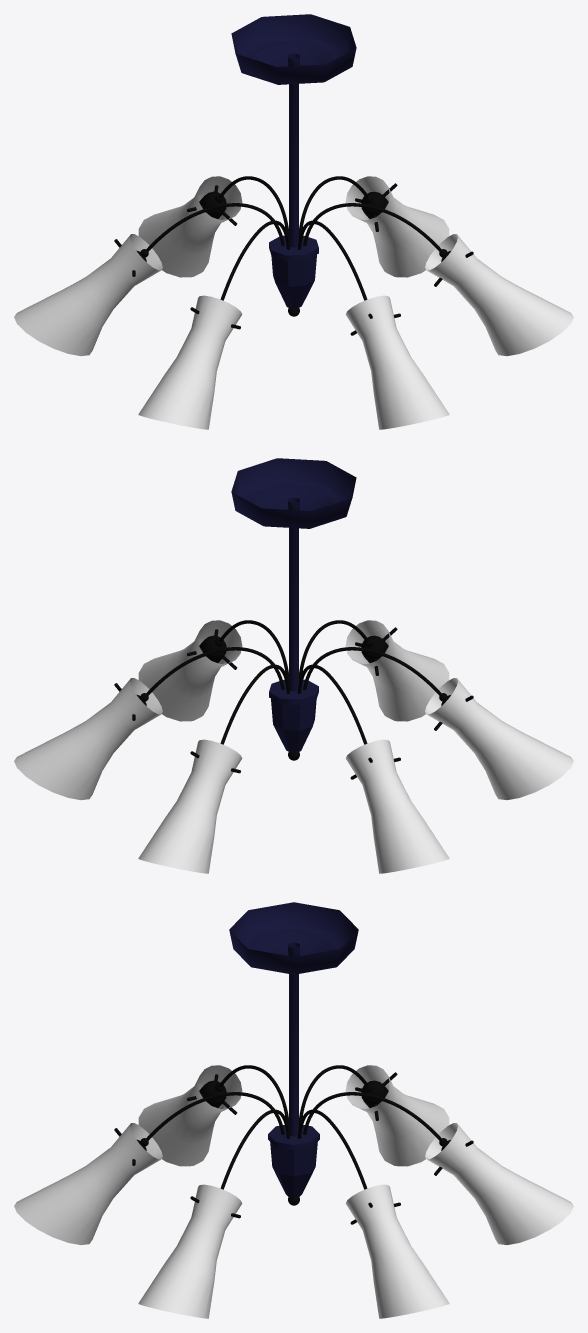
File: Candelabro.FBX
3 renders of one model, top to bottom at view 1: azimuth 30°, elevation 25°; view 2: azimuth 150°, elevation 25°; view 3: azimuth 270°, elevation 25°, orthographic.
Visible parts, largest first — view 1: Shade001, Shade004, Ceiling-cap, Shade003, Shade002, Shade, Shade005, Main-holder, Main-tube, Line001, Line004, Socket (+3 smaller); view 2: Shade005, Shade002, Ceiling-cap, Shade001, Shade, Shade004, Shade003, Main-holder, Main-tube, Line002, Line005, Socket004 (+3 smaller); view 3: Shade003, Shade, Ceiling-cap, Shade005, Shade004, Shade002, Shade001, Main-holder, Main-tube, Line, Line003, Socket002 (+3 smaller).
Part boxes in pixels (left/top/right/bottom): Shade001: left=14, top=234, right=162, bottom=356; Shade004: left=425, top=234, right=573, bottom=356; Ceiling-cap: left=231, top=14, right=356, bottom=84; Shade003: left=345, top=295, right=449, bottom=429; Shade002: left=138, top=295, right=242, bottom=429; Shade: left=138, top=176, right=242, bottom=277; Shade005: left=345, top=176, right=449, bottom=277; Main-holder: left=269, top=235, right=318, bottom=308; Main-tube: left=288, top=53, right=299, bottom=247; Line001: left=146, top=203, right=284, bottom=251; Line004: left=303, top=203, right=441, bottom=251; Socket: left=187, top=185, right=237, bottom=225; Shade005: left=14, top=678, right=162, bottom=800; Shade002: left=425, top=678, right=573, bottom=800; Ceiling-cap: left=231, top=458, right=356, bottom=528; Shade001: left=345, top=739, right=449, bottom=873; Shade: left=138, top=739, right=242, bottom=873; Shade004: left=138, top=620, right=242, bottom=721; Shade003: left=345, top=620, right=449, bottom=721; Main-holder: left=269, top=679, right=318, bottom=752; Main-tube: left=288, top=497, right=299, bottom=691; Line002: left=303, top=647, right=441, bottom=695; Line005: left=146, top=647, right=284, bottom=695; Socket004: left=187, top=629, right=237, bottom=669; Shade003: left=14, top=1123, right=162, bottom=1244; Shade: left=425, top=1123, right=573, bottom=1244; Ceiling-cap: left=229, top=902, right=358, bottom=974; Shade005: left=345, top=1184, right=449, bottom=1318; Shade004: left=138, top=1184, right=242, bottom=1318; Shade002: left=138, top=1065, right=242, bottom=1166; Shade001: left=345, top=1065, right=449, bottom=1166; Main-holder: left=268, top=1125, right=319, bottom=1197; Main-tube: left=288, top=942, right=299, bottom=1136; Line: left=303, top=1092, right=441, bottom=1140; Line003: left=146, top=1092, right=284, bottom=1140; Socket002: left=187, top=1074, right=237, bottom=1114.
Size of the model in its own units: 57.04 by 39.6 by 64.79.
